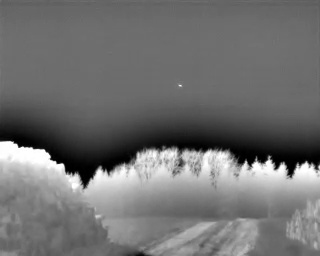AIRPLANE: (176, 82, 184, 89)
